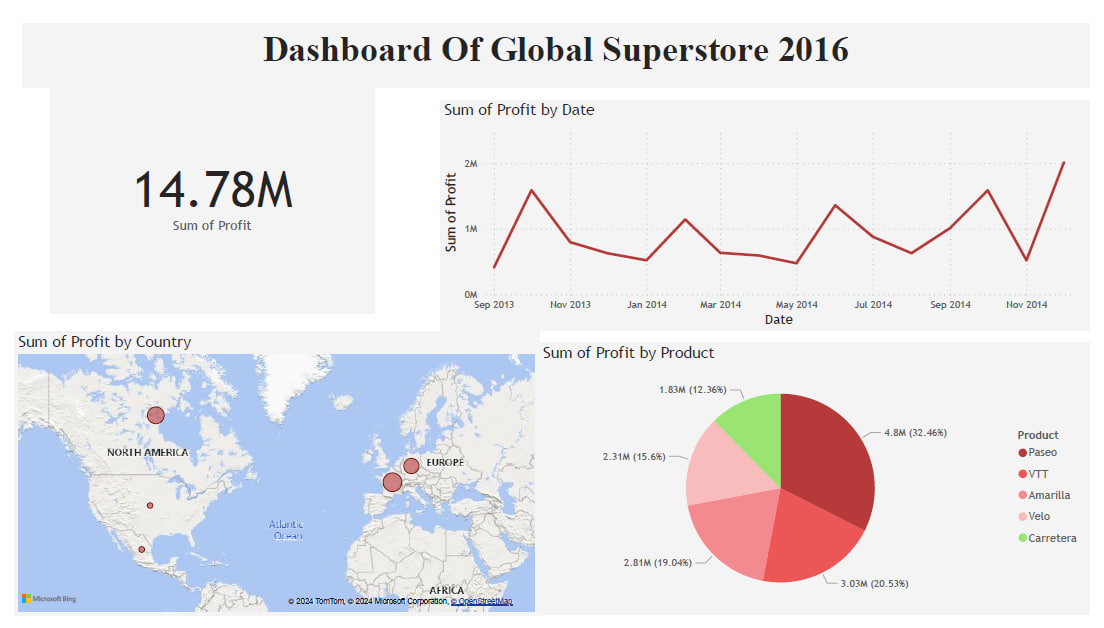

The page's visual inventory and layout, read from the dashboard file:
{"tool":"powerbi","page":{"name":"Page 1","canvas":[1280,720],"ordinal":0},"visuals":[{"type":"textbox","box":[10.1,15.1,1269.9,75.6],"z":0},{"type":"map","fields":{"Size":["Sum(financials.Profit)"],"Category":["financials.Country"]},"box":[0,381.3,624.9,337.6],"z":1000},{"type":"lineChart","fields":{"Y":["Sum(financials.Profit)"],"Category":["financials.Date"]},"box":[507.3,105.8,772.7,275.5],"z":2000},{"type":"pieChart","fields":{"Y":["Sum(financials.Profit)"],"Category":["financials.Product"]},"box":[624.9,394.8,655.1,324.2],"z":3000},{"type":"card","fields":{"Values":["Sum(financials.Profit)"]},"box":[43.7,73.9,384.7,285.6],"z":4000}]}

Visuals, with their boxes in screenshot pixels (x1, y1, x2, y2), scaled from the page's 1280x720 canvas onto the 1104x628 screenshot:
textbox: [left=9, top=13, right=1103, bottom=79]
map - Sum(financials.Profit) x financials.Country: [left=0, top=333, right=539, bottom=627]
lineChart - Sum(financials.Profit) x financials.Date: [left=438, top=92, right=1103, bottom=333]
pieChart - Sum(financials.Profit) x financials.Product: [left=539, top=344, right=1103, bottom=627]
card - Sum(financials.Profit): [left=38, top=64, right=369, bottom=314]
